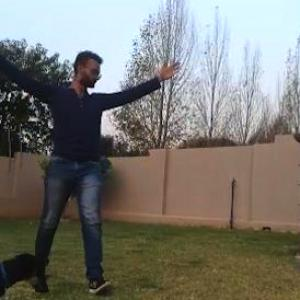takeoff: (0, 2, 237, 299)
